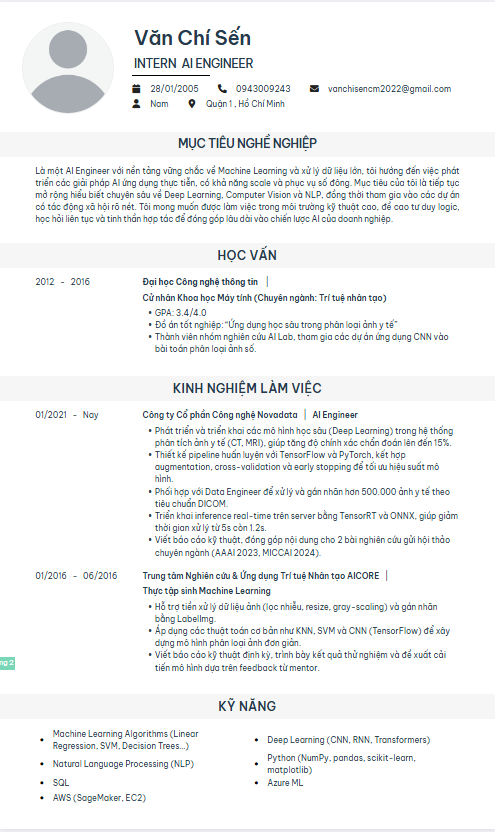address: (185, 96, 287, 115)
gpa: (145, 307, 208, 317)
level: (130, 53, 179, 70)
position: (181, 51, 257, 69)
skill: (35, 688, 442, 812)
